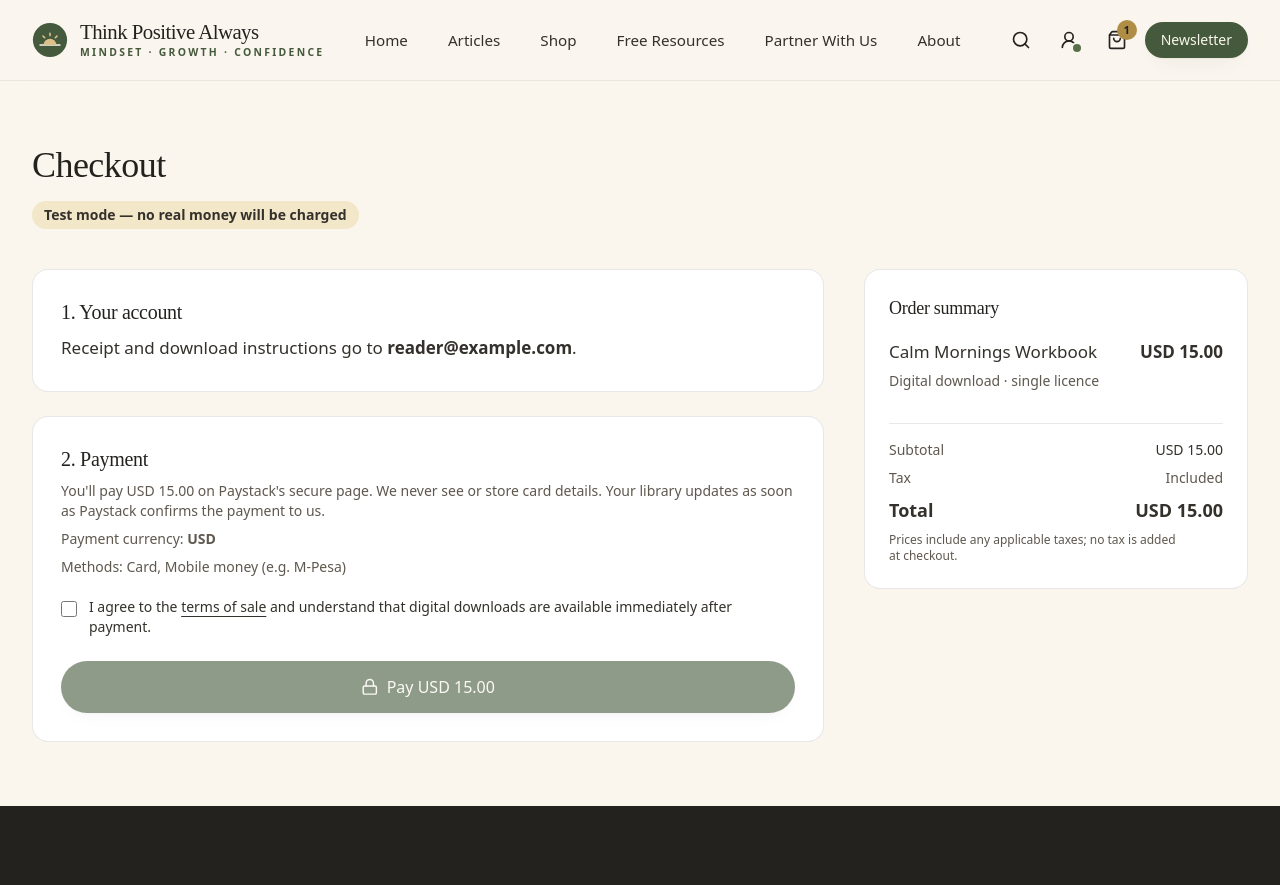
Test: cart and checkout › shows the new total when the price changed instead of charging it
Step 1. Click the checkbox labelled "terms of sale" → (69, 609), box [61,601,77,617]
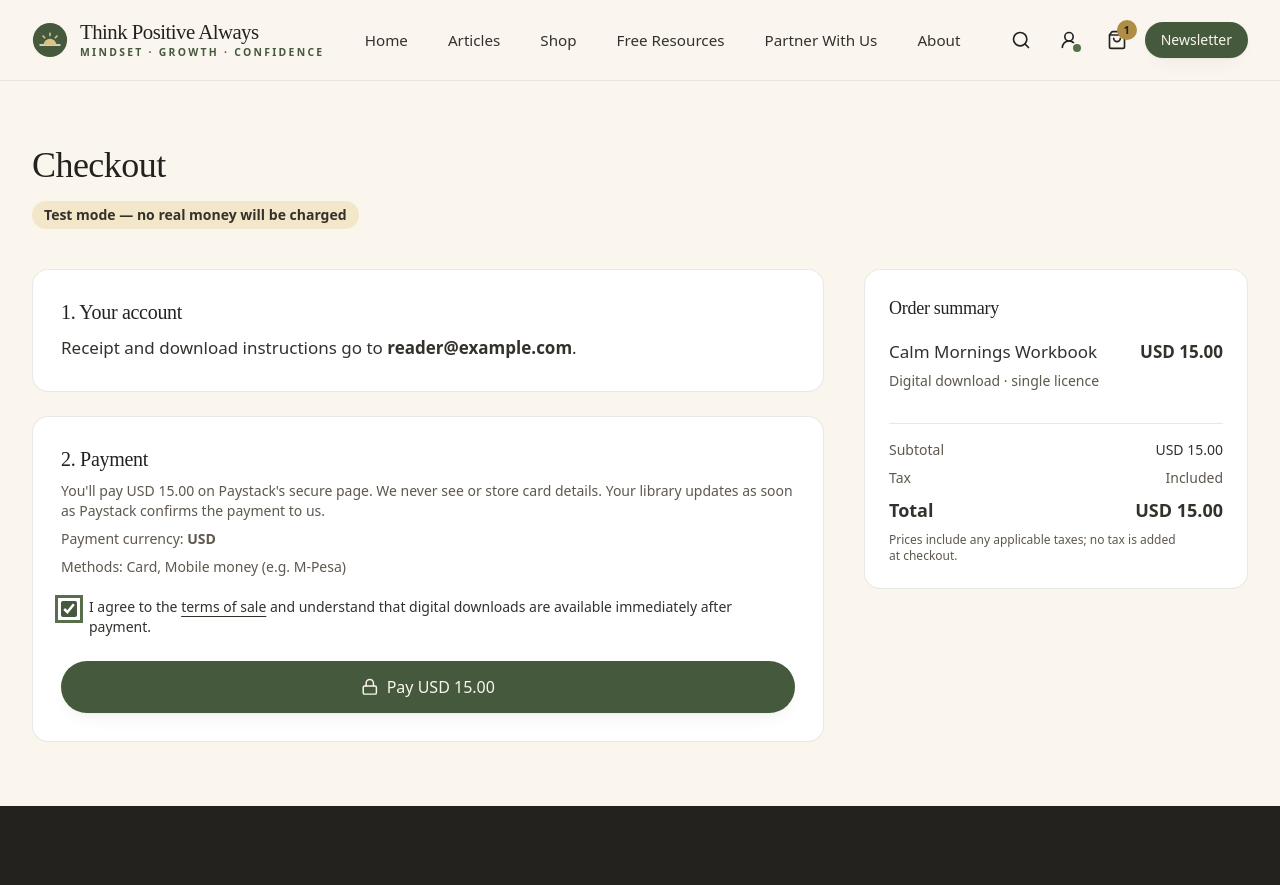
Step 2. Click the button "Pay USD 15.00" → (428, 687), box [61,661,795,713]
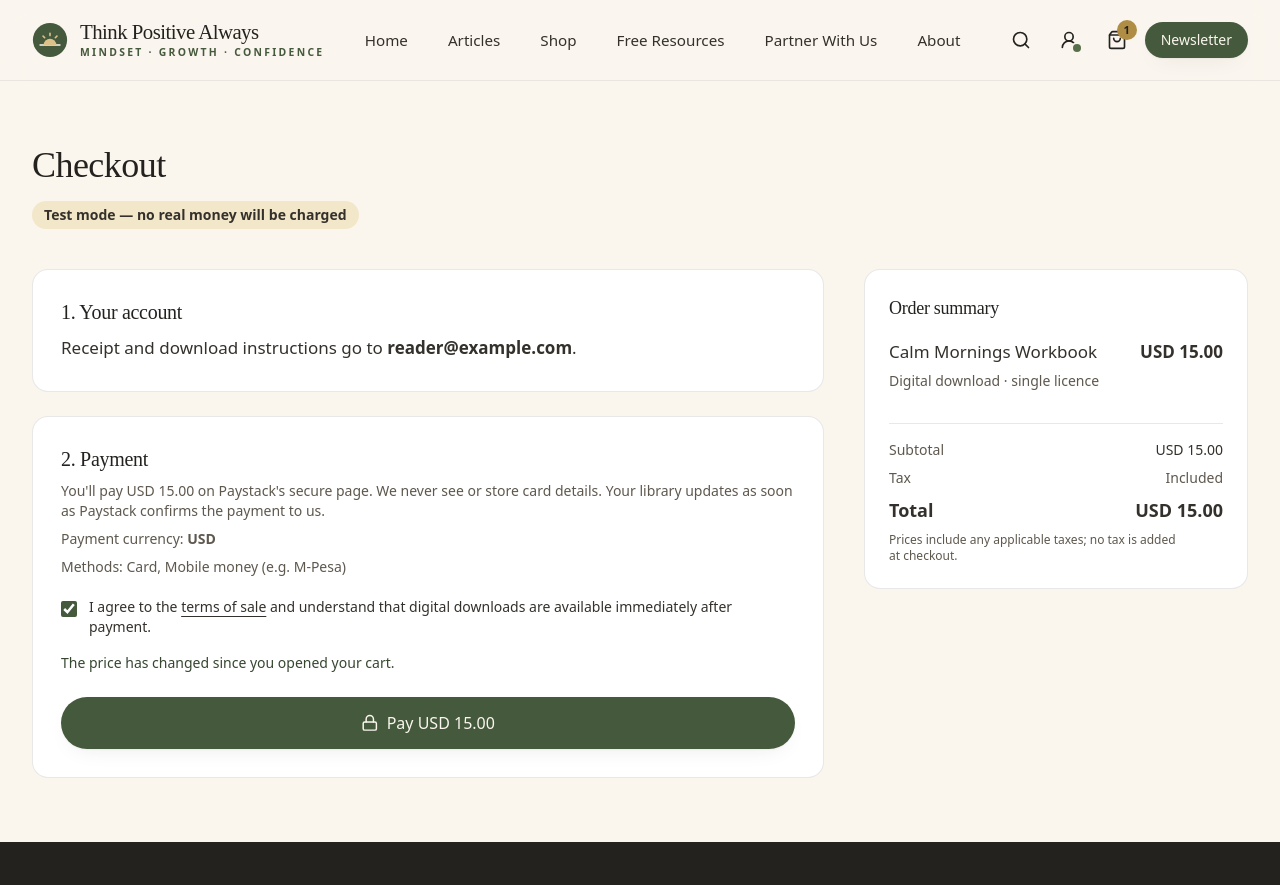
Expected: the text "The price has changed since you opened your cart." is shown, [61,653,394,672]
